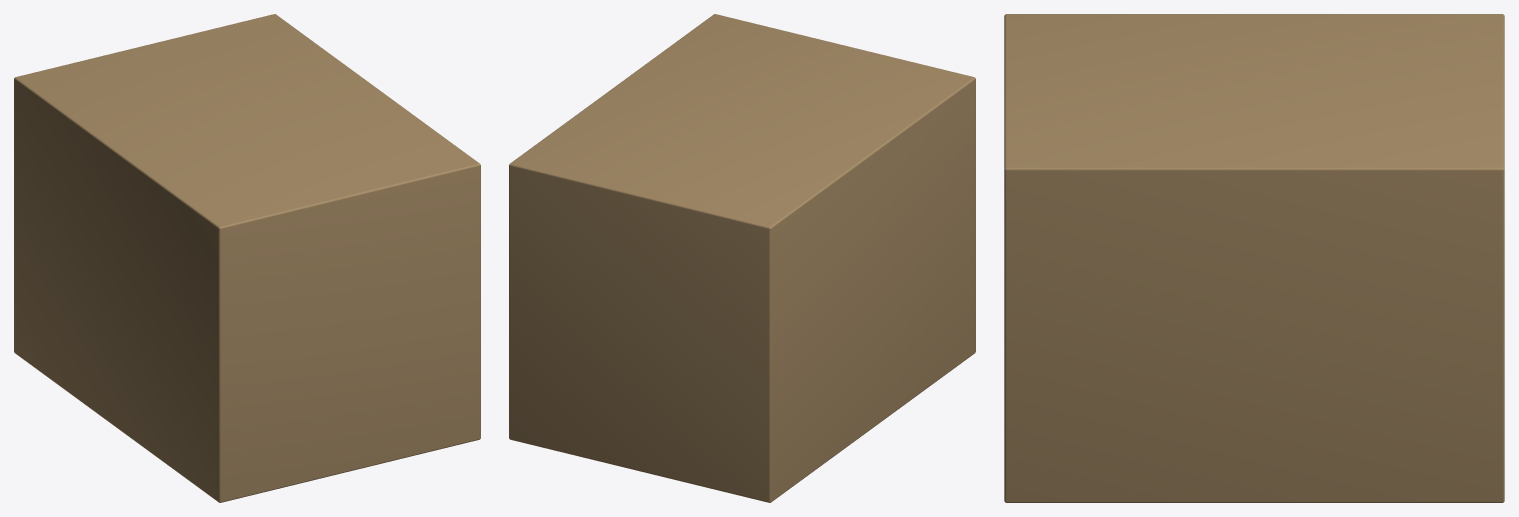
Rendered from simready-box_printer_a08.glb.
The picture shows the model from 3 angles, left to right: view 1: azimuth 30°, elevation 25°; view 2: azimuth 150°, elevation 25°; view 3: azimuth 270°, elevation 25°; orthographic projection. The views are drawn at different scales.
Parts seen in each view (by area): view 1: closed_box; view 2: closed_box; view 3: closed_box.
Part boxes in pixels (x1,y1,x2,y2): closed_box: [14, 14, 480, 502]; closed_box: [509, 14, 975, 502]; closed_box: [1004, 14, 1504, 502].
Size of the model in its own units: 0.2238 by 0.2252 by 0.3046.
